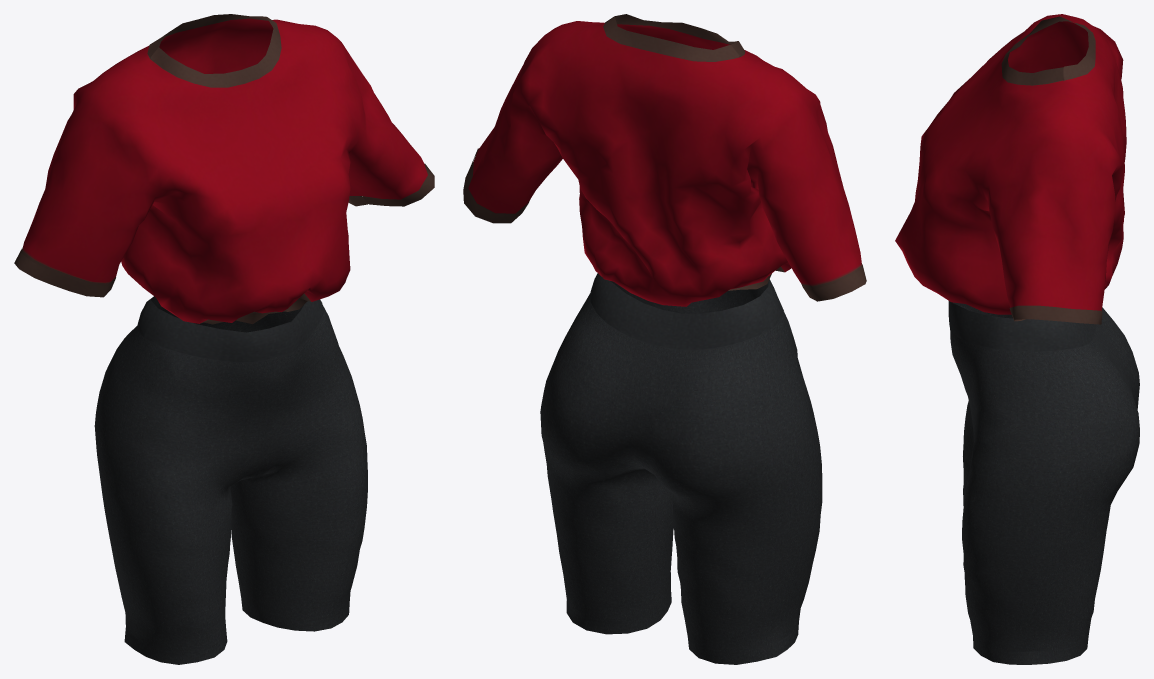
The model's file is Basic clothes.fbx.
3 views of the same model, side by side, from view 1: azimuth 30°, elevation 25°; view 2: azimuth 150°, elevation 25°; view 3: azimuth 270°, elevation 25° (orthographic). The views are drawn at different scales.
Visible parts, largest first — view 1: Basic clothes; view 2: Basic clothes; view 3: Basic clothes.
Part boxes in pixels (x1,y1,x2,y2): Basic clothes: (14,14,434,664); Basic clothes: (463,14,866,664); Basic clothes: (895,14,1139,664).
Size of the model in its own units: 60.34 by 85.91 by 32.98.
